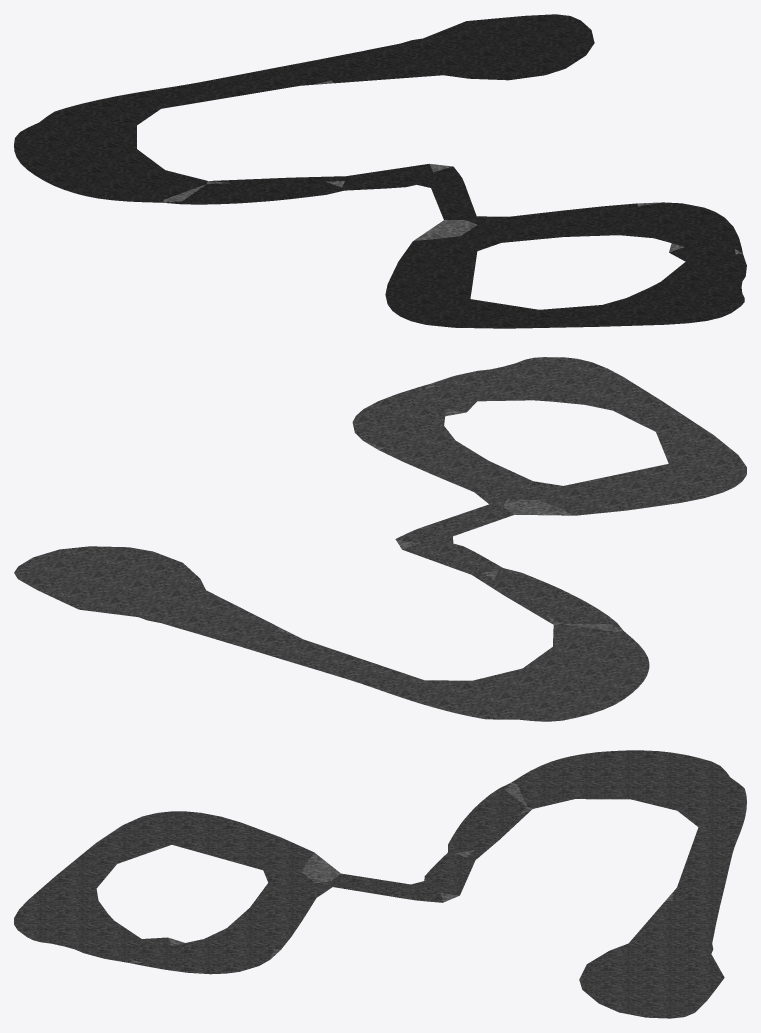
The model's file is stg410_MotWater_02.obj.
3 views of the same model, one above another, from view 1: azimuth 30°, elevation 25°; view 2: azimuth 150°, elevation 25°; view 3: azimuth 270°, elevation 25° (orthographic). The views are drawn at different scales.
Parts seen in each view (by area): view 1: polygon0; view 2: polygon0; view 3: polygon0.
Boxes of the visible parts, box(x1,y1,x2,y2) form: polygon0: box(14, 14, 746, 328); polygon0: box(14, 357, 746, 721); polygon0: box(14, 750, 746, 1018).
Bounding box in the file's own units: 1825 × 0.0236 × 2109.
Materials: 1 (1 with a texture image).
